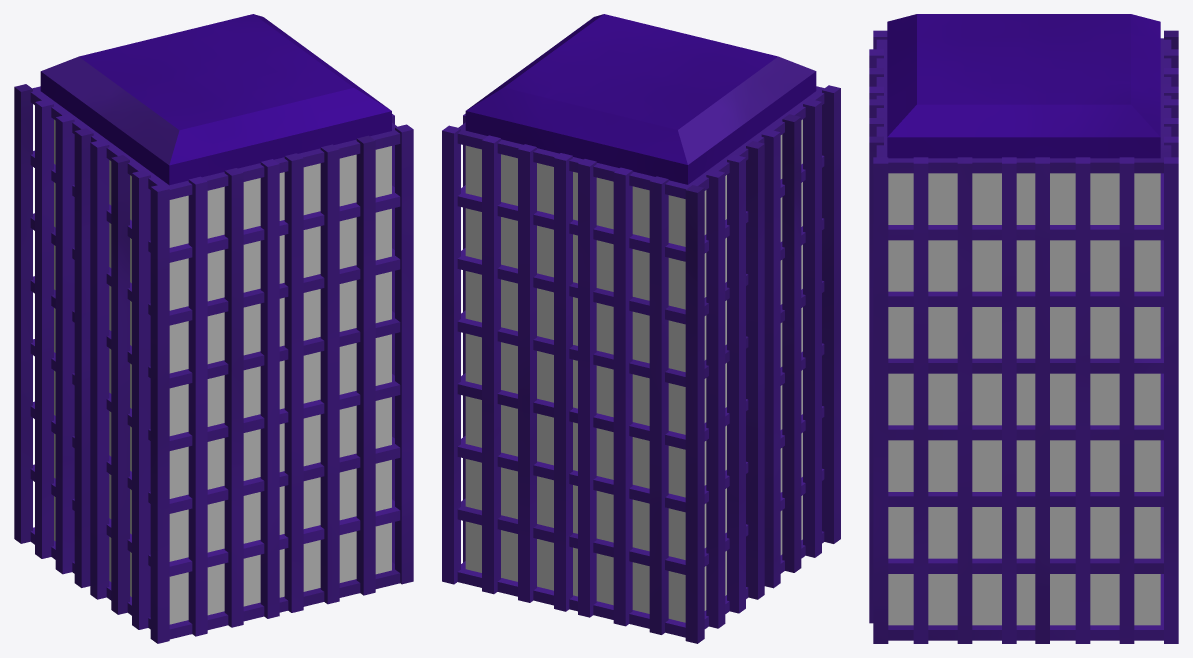
File: SM_Skyscraper.fbx
The picture shows the model from 3 angles, left to right: view 1: azimuth 30°, elevation 25°; view 2: azimuth 150°, elevation 25°; view 3: azimuth 270°, elevation 25°; orthographic projection. The views are drawn at different scales.
Parts seen in each view (by area): view 1: Skyscraper; view 2: Skyscraper; view 3: Skyscraper.
Boxes of the visible parts, <box> form: Skyscraper: <box>14,14,413,643</box>; Skyscraper: <box>442,14,840,643</box>; Skyscraper: <box>869,14,1178,643</box>.
Size of the model in its own units: 21.34 by 38.9 by 21.
